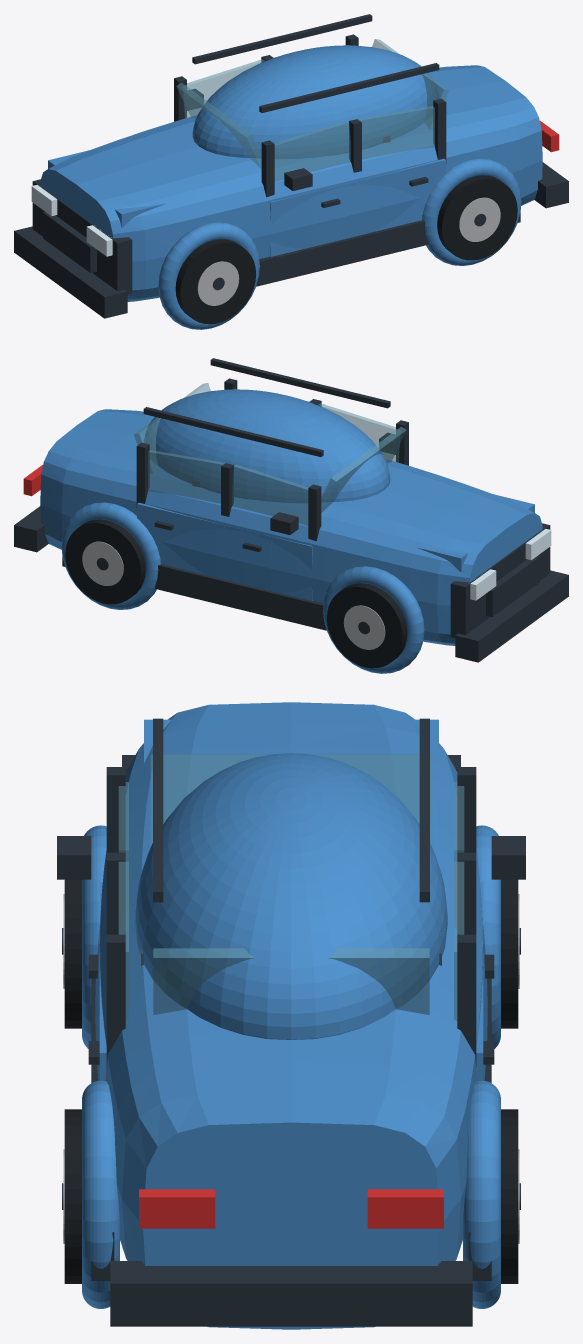
Rendered from ESF_V3_Modern_Daily_Crossover_ThreeJS_YUp.glb.
3 renders of one model, top to bottom at view 1: azimuth 30°, elevation 25°; view 2: azimuth 150°, elevation 25°; view 3: azimuth 270°, elevation 25°, orthographic. The views are drawn at different scales.
Parts seen in each view (by area): view 1: Body_Shell, Cabin_Roof_Shell, Lower_Rocker_Right, Wheel_Rear_Right, Wheel_Front_Right, Front_Bumper, Fender_Arch_Front_Right, Fender_Arch_Rear_Right, Window_Rear_Right, Window_Front_Right, Front_Fascia, Door_Rear_Right (+19 smaller); view 2: Body_Shell, Cabin_Roof_Shell, Lower_Rocker_Left, Wheel_Rear_Left, Wheel_Front_Left, Front_Bumper, Fender_Arch_Front_Left, Fender_Arch_Rear_Left, Window_Rear_Left, Window_Front_Left, Front_Fascia, Door_Rear_Left (+19 smaller); view 3: Body_Shell, Cabin_Roof_Shell, Rear_Bumper, Rear_Glass, Fender_Arch_Rear_Left, Fender_Arch_Rear_Right, Windshield_Glass, Wheel_Rear_Left, Wheel_Rear_Right, TailLight_Left, TailLight_Right, Fender_Arch_Front_Left (+20 smaller).
Boxes of the visible parts, x1,y1,x2,y2 form: Body_Shell: (40,65,542,301); Cabin_Roof_Shell: (192,45,439,159); Lower_Rocker_Right: (256,213,520,286); Wheel_Rear_Right: (437,175,517,260); Wheel_Front_Right: (175,239,256,324); Front_Bumper: (14,226,127,318); Fender_Arch_Front_Right: (158,222,259,329); Fender_Arch_Rear_Right: (422,158,521,265); Window_Rear_Right: (358,106,434,159); Window_Front_Right: (274,120,350,181); Front_Fascia: (32,179,132,293); Door_Rear_Right: (359,158,445,231); Body_Shell: (40,409,542,645); Cabin_Roof_Shell: (143,389,390,503); Lower_Rocker_Left: (62,557,326,630); Wheel_Rear_Left: (65,519,145,604); Wheel_Front_Left: (326,583,407,668); Front_Bumper: (455,570,568,662); Fender_Arch_Front_Left: (323,566,424,673); Fender_Arch_Rear_Left: (61,502,160,609); Window_Rear_Left: (148,450,224,503); Window_Front_Left: (232,464,308,525); Front_Fascia: (450,523,550,637); Door_Rear_Left: (137,502,223,575); Body_Shell: (95,702,487,1329); Cabin_Roof_Shell: (135,753,447,1039); Rear_Bumper: (110,1261,472,1326); Rear_Glass: (153,948,429,1014); Fender_Arch_Rear_Left: (463,1080,500,1308); Fender_Arch_Rear_Right: (82,1080,119,1308); Windshield_Glass: (150,754,432,844); Wheel_Rear_Left: (501,1109,518,1283); Wheel_Rear_Right: (64,1109,81,1283); TailLight_Left: (367,1189,443,1228); TailLight_Right: (139,1189,215,1228); Fender_Arch_Front_Left: (476,825,500,1048).
Size of the model in its own units: 5.63 by 2.29 by 2.46.
